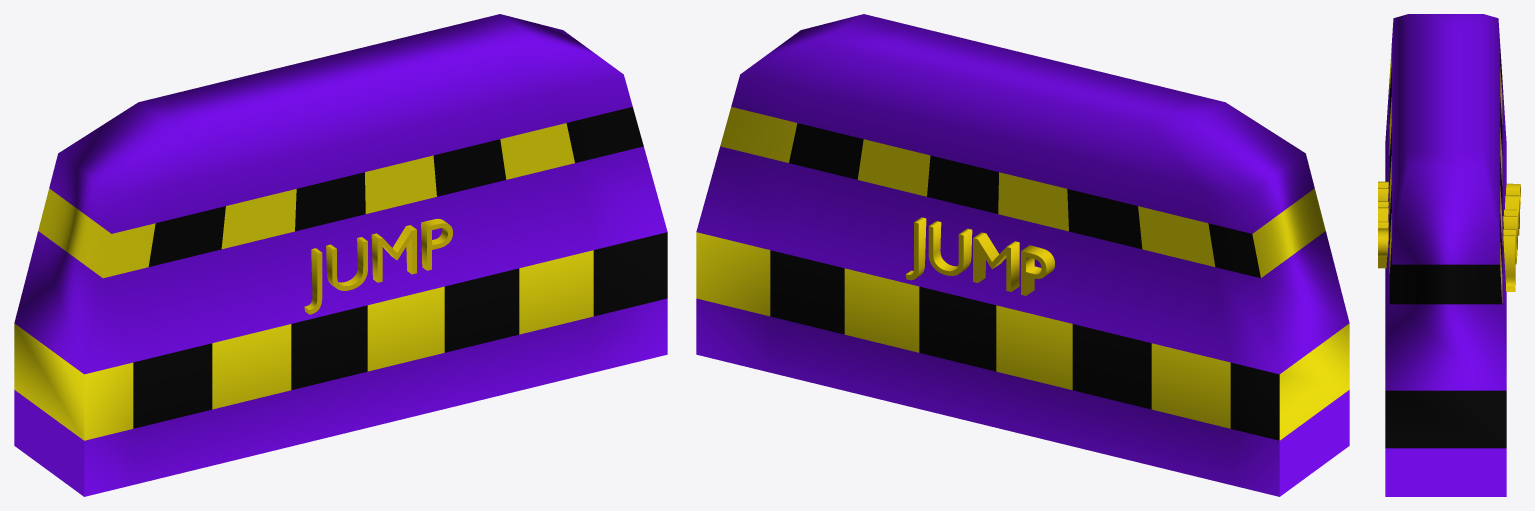
The model's file is obs-2.fbx.
3 renders of one model, left to right at view 1: azimuth 30°, elevation 25°; view 2: azimuth 150°, elevation 25°; view 3: azimuth 270°, elevation 25°, orthographic. The views are drawn at different scales.
Visible parts, largest first — view 1: Cube, Metin; view 2: Cube, Metin.001; view 3: Cube, Metin.001, Metin.
Part boxes in pixels (<box>): Cube: <box>14,14,667,496</box>; Metin: <box>304,218,452,314</box>; Cube: <box>696,14,1349,496</box>; Metin.001: <box>905,217,1054,295</box>; Cube: <box>1385,14,1506,496</box>; Metin.001: <box>1503,183,1520,291</box>; Metin: <box>1378,181,1388,268</box>.
Size of the model in its own units: 386 by 206 by 94.35.
